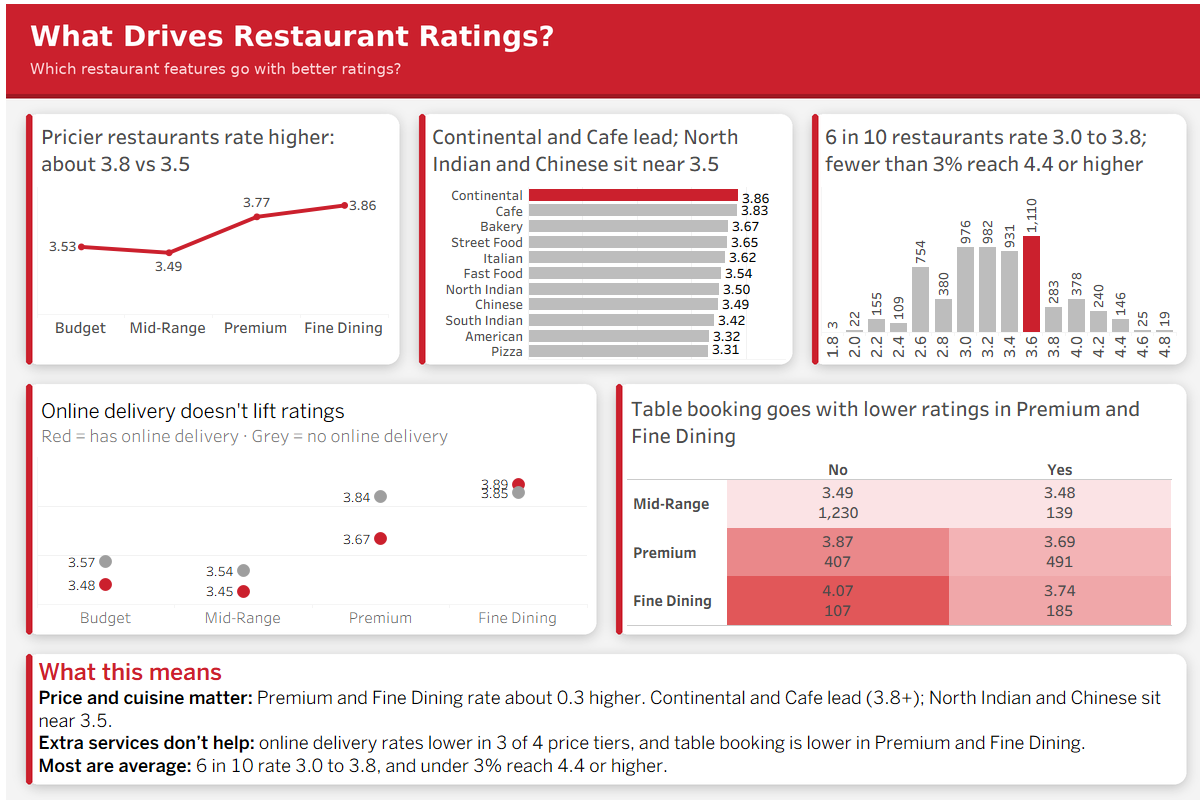

Layout of this report page (visuals, bound fields, positions):
{"tool":"tableau","page":{"name":"What Drives Ratings","canvas":[1200,800],"ordinal":2},"visuals":[{"type":"image","param":"Image/zomato_bg2.png","box":[6,4,1200,800]},{"type":"worksheet","title":"P2 – Rating by Price Tier","mark":"Line","rows":["Calculation_0730403438157825"],"cols":["Calculation_0730403447291909"],"box":[37,116,351,238]},{"type":"worksheet","title":"P2 – Rating by Cuisine","mark":"Automatic","rows":["Calculation_0730403442245635"],"cols":["Calculation_0730403438157825"],"box":[428,116,357,243]},{"type":"worksheet","title":"P2 – Rating Spread","mark":"Automatic","rows":["Restaurant ID"],"cols":["Rating (bin)"],"box":[821,116,355,243]},{"type":"worksheet","title":"P2 – Table Booking","mark":"Square","rows":["Calculation_0730403447291909"],"cols":["Has Table booking"],"box":[627,388,545,238]},{"type":"worksheet","title":"P2 – Online Delivery","mark":"Circle","rows":["Calculation_0730403438157825"],"cols":["Calculation_0730403447291909"],"box":[37,392,550,235]},{"type":"text","box":[35,658,1143,121]}]}

Visuals, with their boxes in screenshot pixels (x1, y1, x2, y2), scaled from the page's 1200x800 canvas onto the 1200x800 screenshot:
image: [6, 4, 1199, 799]
"P2 – Rating by Price Tier" worksheet (Line marks): [37, 116, 388, 354]
"P2 – Rating by Cuisine" worksheet: [428, 116, 785, 359]
"P2 – Rating Spread" worksheet: [821, 116, 1176, 359]
"P2 – Table Booking" worksheet (Square marks): [627, 388, 1172, 626]
"P2 – Online Delivery" worksheet (Circle marks): [37, 392, 587, 627]
text: [35, 658, 1178, 779]
